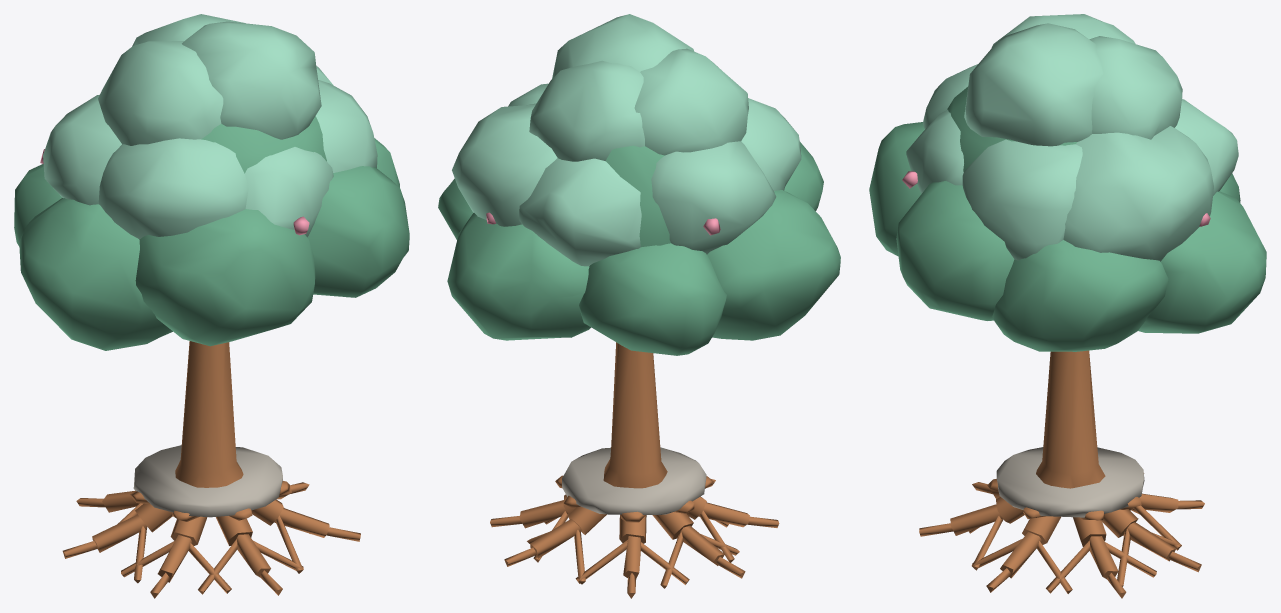
The model's file is tree_big.glb.
3 renders of one model, left to right at view 1: azimuth 30°, elevation 25°; view 2: azimuth 150°, elevation 25°; view 3: azimuth 270°, elevation 25°, orthographic. The views are drawn at different scales.
Visible parts, largest first — view 1: tree_big; view 2: tree_big; view 3: tree_big.
Part boxes in pixels (x1,y1,x2,y2): tree_big: (14,14,409,598); tree_big: (438,14,840,598); tree_big: (869,14,1266,598).
Size of the model in its own units: 5.18 by 6.89 by 4.74.
Materials: 1 (1 with a texture image).
